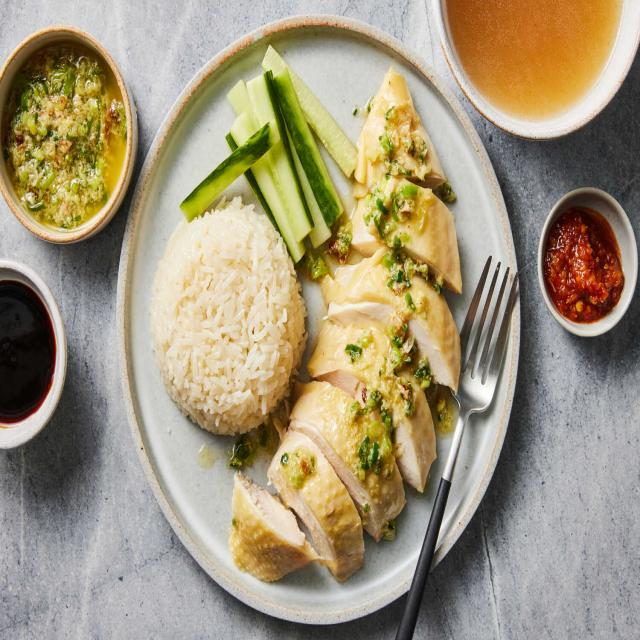Chicken: (230, 70, 462, 581)
Green veg: (180, 45, 356, 263)
Rice: (150, 197, 307, 435)
